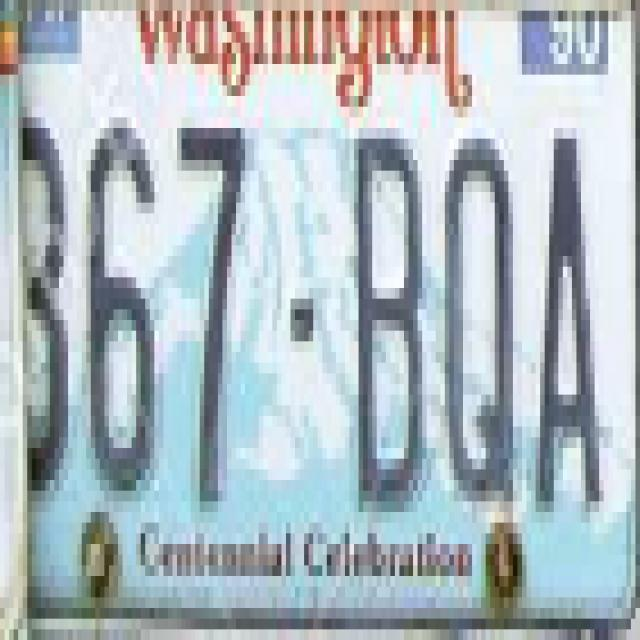6: (82, 107, 162, 506)
7: (169, 102, 249, 522)
A: (530, 108, 608, 530)
B: (343, 118, 432, 524)
Q: (440, 120, 522, 516)
